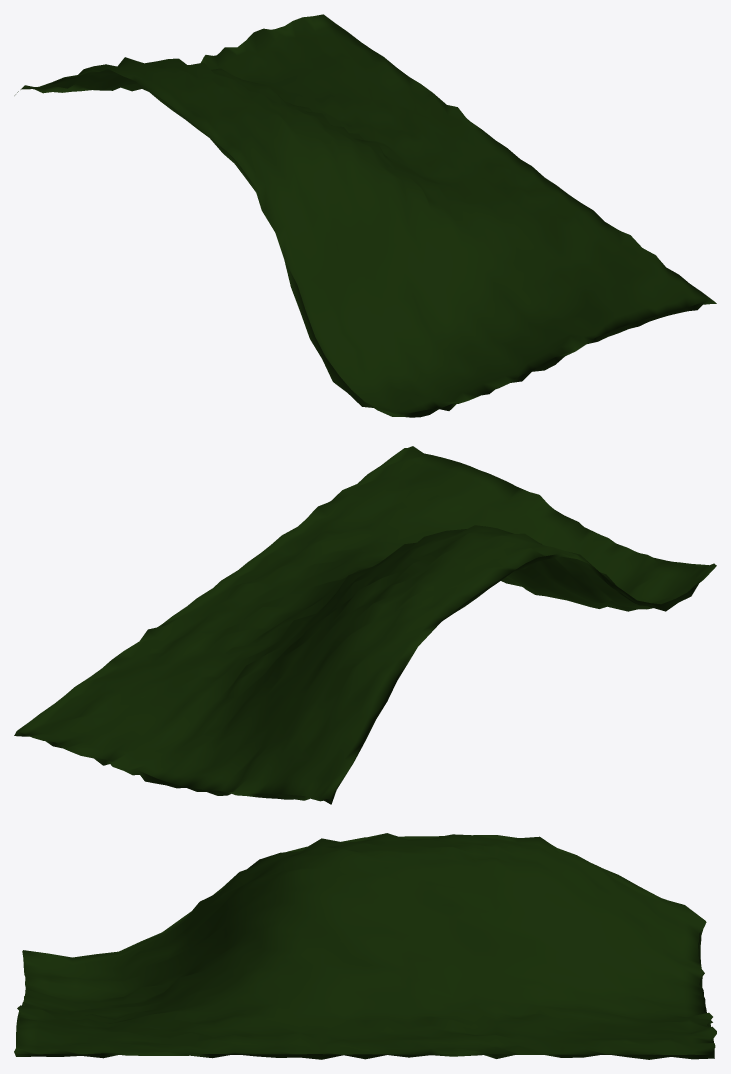
Rendered from Mountain.fbx.
3 renders of one model, top to bottom at view 1: azimuth 30°, elevation 25°; view 2: azimuth 150°, elevation 25°; view 3: azimuth 270°, elevation 25°, orthographic. The views are drawn at different scales.
Visible parts, largest first — view 1: Plane; view 2: Plane; view 3: Plane.
Boxes of the visible parts, bbox=[...] form: Plane: bbox=[14, 14, 716, 417]; Plane: bbox=[14, 446, 716, 804]; Plane: bbox=[14, 833, 716, 1059].
Bounding box in the file's own units: 14893 × 7303 × 31292.
